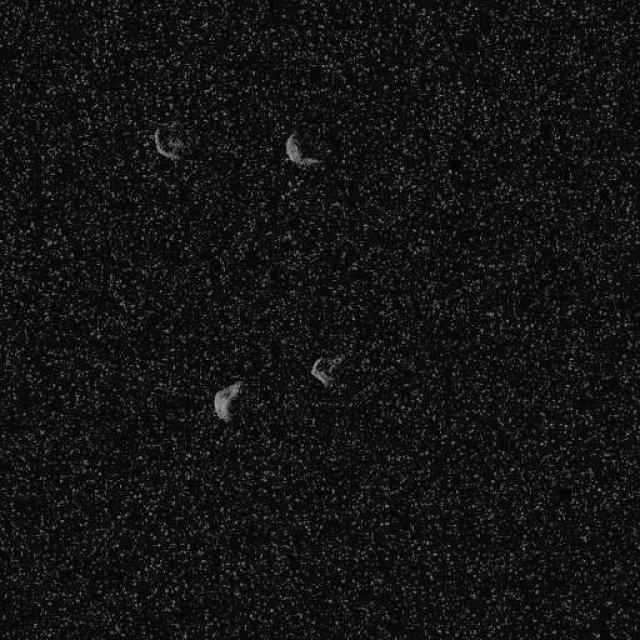D2: (211, 378, 244, 422), (284, 130, 321, 166), (151, 124, 184, 162), (310, 357, 334, 388)
